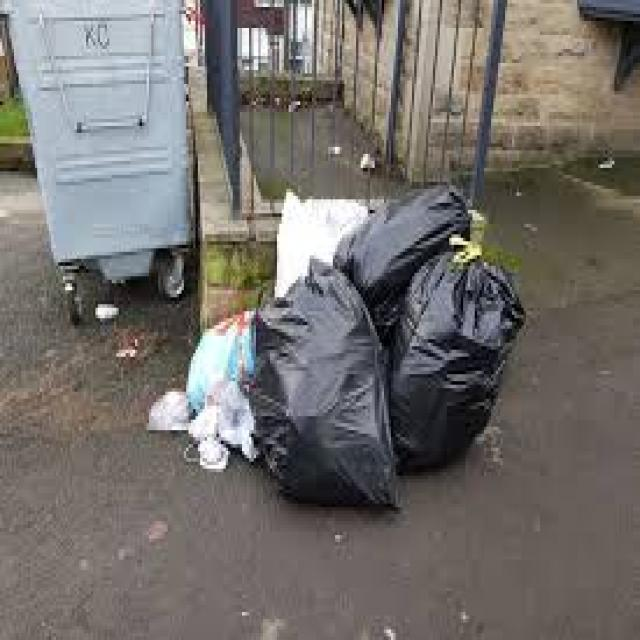plastic_bag: (394, 242, 525, 470), (255, 277, 387, 494), (329, 186, 471, 281)
